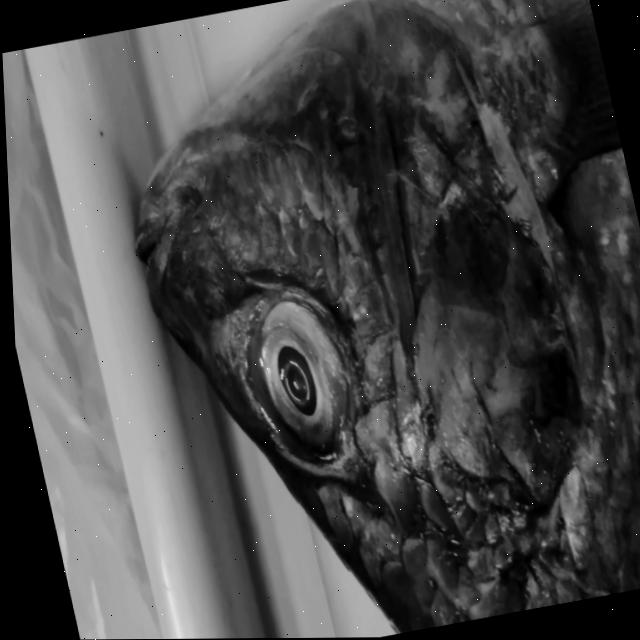Non-Fresh: (207, 249, 389, 506)
